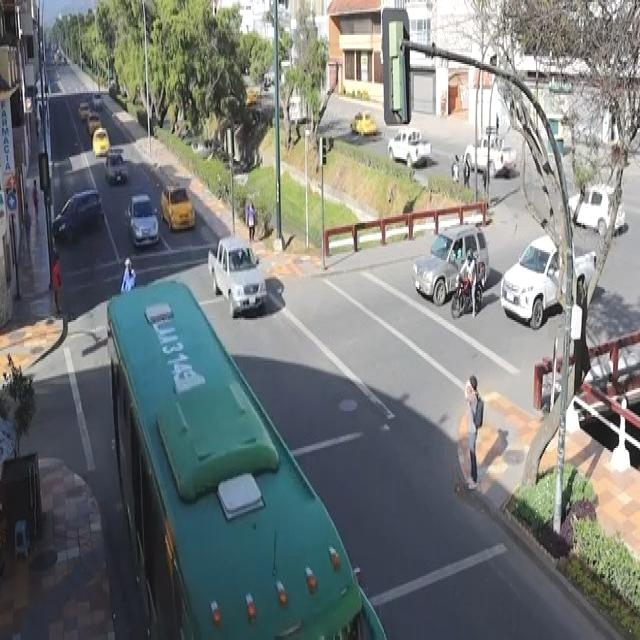CMT: (500, 235, 598, 327), (210, 235, 273, 323), (465, 137, 517, 173), (391, 129, 432, 165)
